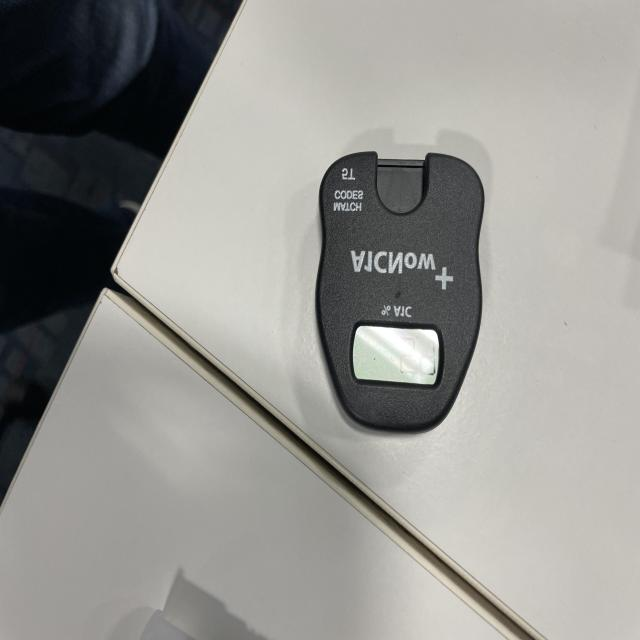hba1c: (314, 152, 487, 437)
